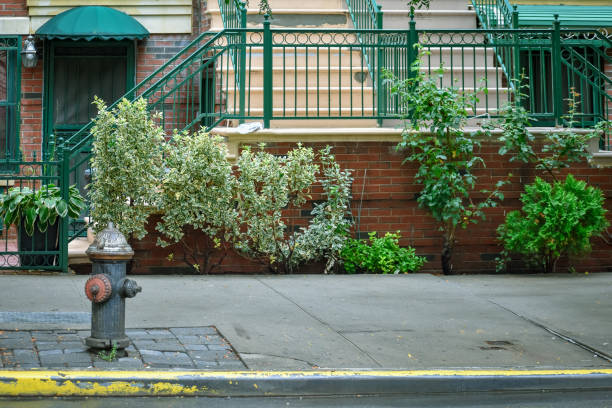firehdyrant: (83, 218, 145, 360)
